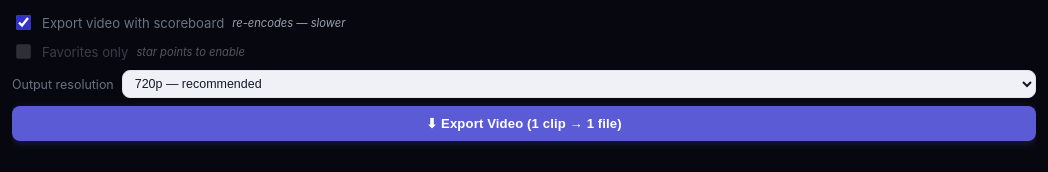
Test case: VideoExporter › shows done state after successful export
Click the button "⬇ Export Video (1 clip → 1 file)": (524, 124) x1=12 y1=106 x2=1036 y2=141
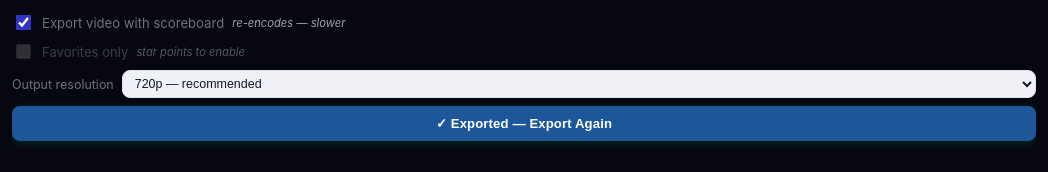
Expected: the button "✓ Exported — Export Again" is shown, x1=12 y1=106 x2=1036 y2=141
